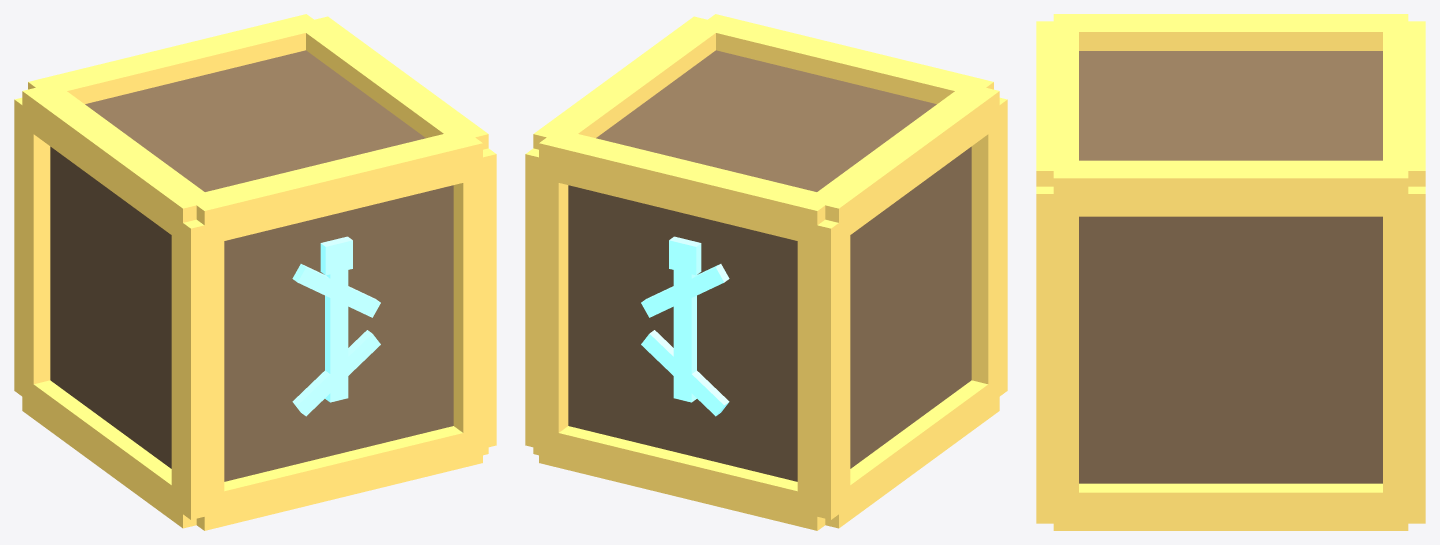
Rendered from supply_crate.glb.
The picture shows the model from 3 angles, left to right: view 1: azimuth 30°, elevation 25°; view 2: azimuth 150°, elevation 25°; view 3: azimuth 270°, elevation 25°; orthographic projection. The views are drawn at different scales.
Visible parts, largest first — view 1: Crate_Body, Crate_HX_0.9_a, Crate_V_-0.45_-0.45, Crate_HX_0.0_a, Crate_V_0.45_-0.45, Crate_HY_0.9_a, Crate_V_-0.45_0.45, Crate_HX_0.9_b, Crate_HY_0.0_a, Crate_HY_0.9_b, Crate_RuneV_-0.46, Crate_RuneD2_-0.46 (+2 smaller); view 2: Crate_Body, Crate_HX_0.9_b, Crate_V_-0.45_0.45, Crate_HX_0.0_b, Crate_V_0.45_0.45, Crate_HY_0.9_a, Crate_V_-0.45_-0.45, Crate_HX_0.9_a, Crate_HY_0.0_a, Crate_HY_0.9_b, Crate_RuneV_0.46, Crate_RuneD2_0.46 (+2 smaller); view 3: Crate_Body, Crate_HY_0.9_b, Crate_HY_0.0_b, Crate_V_0.45_0.45, Crate_V_0.45_-0.45, Crate_HY_0.9_a, Crate_HX_0.9_b, Crate_HX_0.9_a.
Part boxes in pixels (<box>): Crate_Body: <box>50,50,453,481</box>; Crate_HX_0.9_a: <box>185,129,482,245</box>; Crate_V_-0.45_-0.45: <box>171,218,224,519</box>; Crate_HX_0.0_a: <box>196,426,482,530</box>; Crate_V_0.45_-0.45: <box>453,148,496,448</box>; Crate_HY_0.9_a: <box>22,84,208,242</box>; Crate_V_-0.45_0.45: <box>14,97,50,403</box>; Crate_HX_0.9_b: <box>28,14,324,103</box>; Crate_HY_0.0_a: <box>22,376,196,528</box>; Crate_HY_0.9_b: <box>295,16,488,149</box>; Crate_RuneV_-0.46: <box>325,267,348,402</box>; Crate_RuneD2_-0.46: <box>292,330,380,416</box>; Crate_Body: <box>568,50,971,481</box>; Crate_HX_0.9_b: <box>539,129,835,245</box>; Crate_V_-0.45_0.45: <box>797,216,850,519</box>; Crate_HX_0.0_b: <box>539,426,825,530</box>; Crate_V_0.45_0.45: <box>525,148,568,448</box>; Crate_HY_0.9_a: <box>808,85,999,242</box>; Crate_V_-0.45_-0.45: <box>971,97,1007,403</box>; Crate_HX_0.9_a: <box>697,14,993,103</box>; Crate_HY_0.0_a: <box>825,376,999,528</box>; Crate_HY_0.9_b: <box>533,16,726,149</box>; Crate_RuneV_0.46: <box>673,265,696,402</box>; Crate_RuneD2_0.46: <box>641,330,729,416</box>; Crate_Body: <box>1079,51,1382,483</box>; Crate_HY_0.9_b: <box>1053,160,1408,216</box>; Crate_HY_0.0_b: <box>1053,483,1408,530</box>; Crate_V_0.45_0.45: <box>1383,186,1425,515</box>; Crate_V_0.45_-0.45: <box>1036,186,1078,515</box>; Crate_HY_0.9_a: <box>1053,14,1408,50</box>; Crate_HX_0.9_b: <box>1383,21,1425,186</box>; Crate_HX_0.9_a: <box>1036,21,1078,186</box>.
Bounding box in the file's own units: 0.606 × 0.606 × 0.606.
